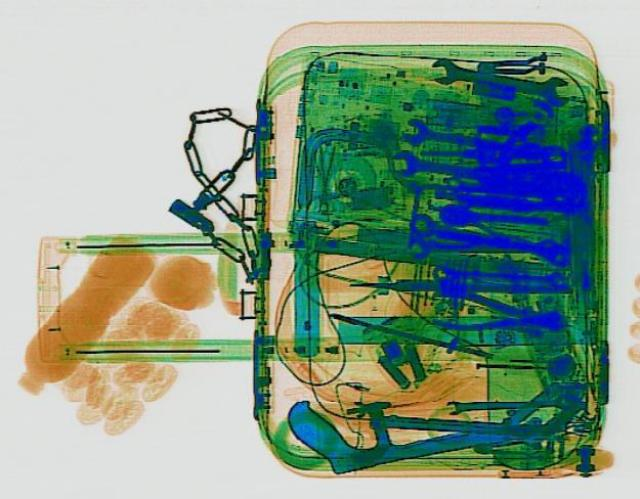Pliers: (422, 281, 568, 344)
Wrench: (403, 210, 572, 267), (426, 54, 574, 105), (431, 262, 565, 291), (406, 233, 556, 256), (386, 147, 474, 185), (400, 116, 490, 153), (443, 393, 573, 414)
